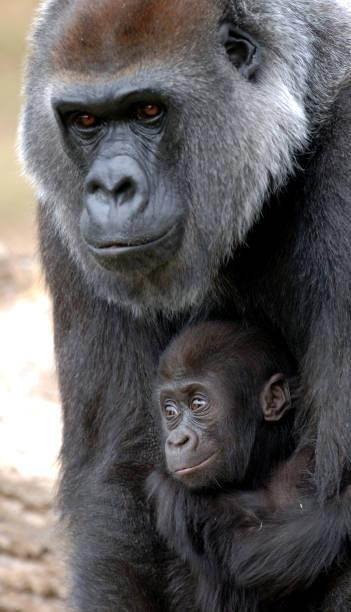gorille_Autres: (5, 0, 351, 612)
